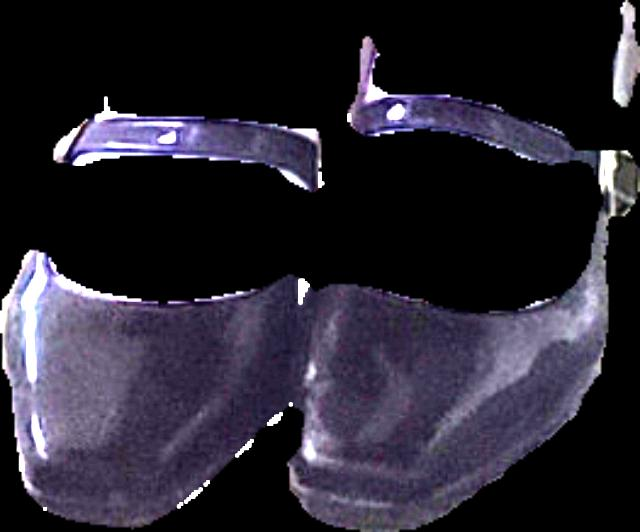blackshoes: (0, 37, 639, 531)
